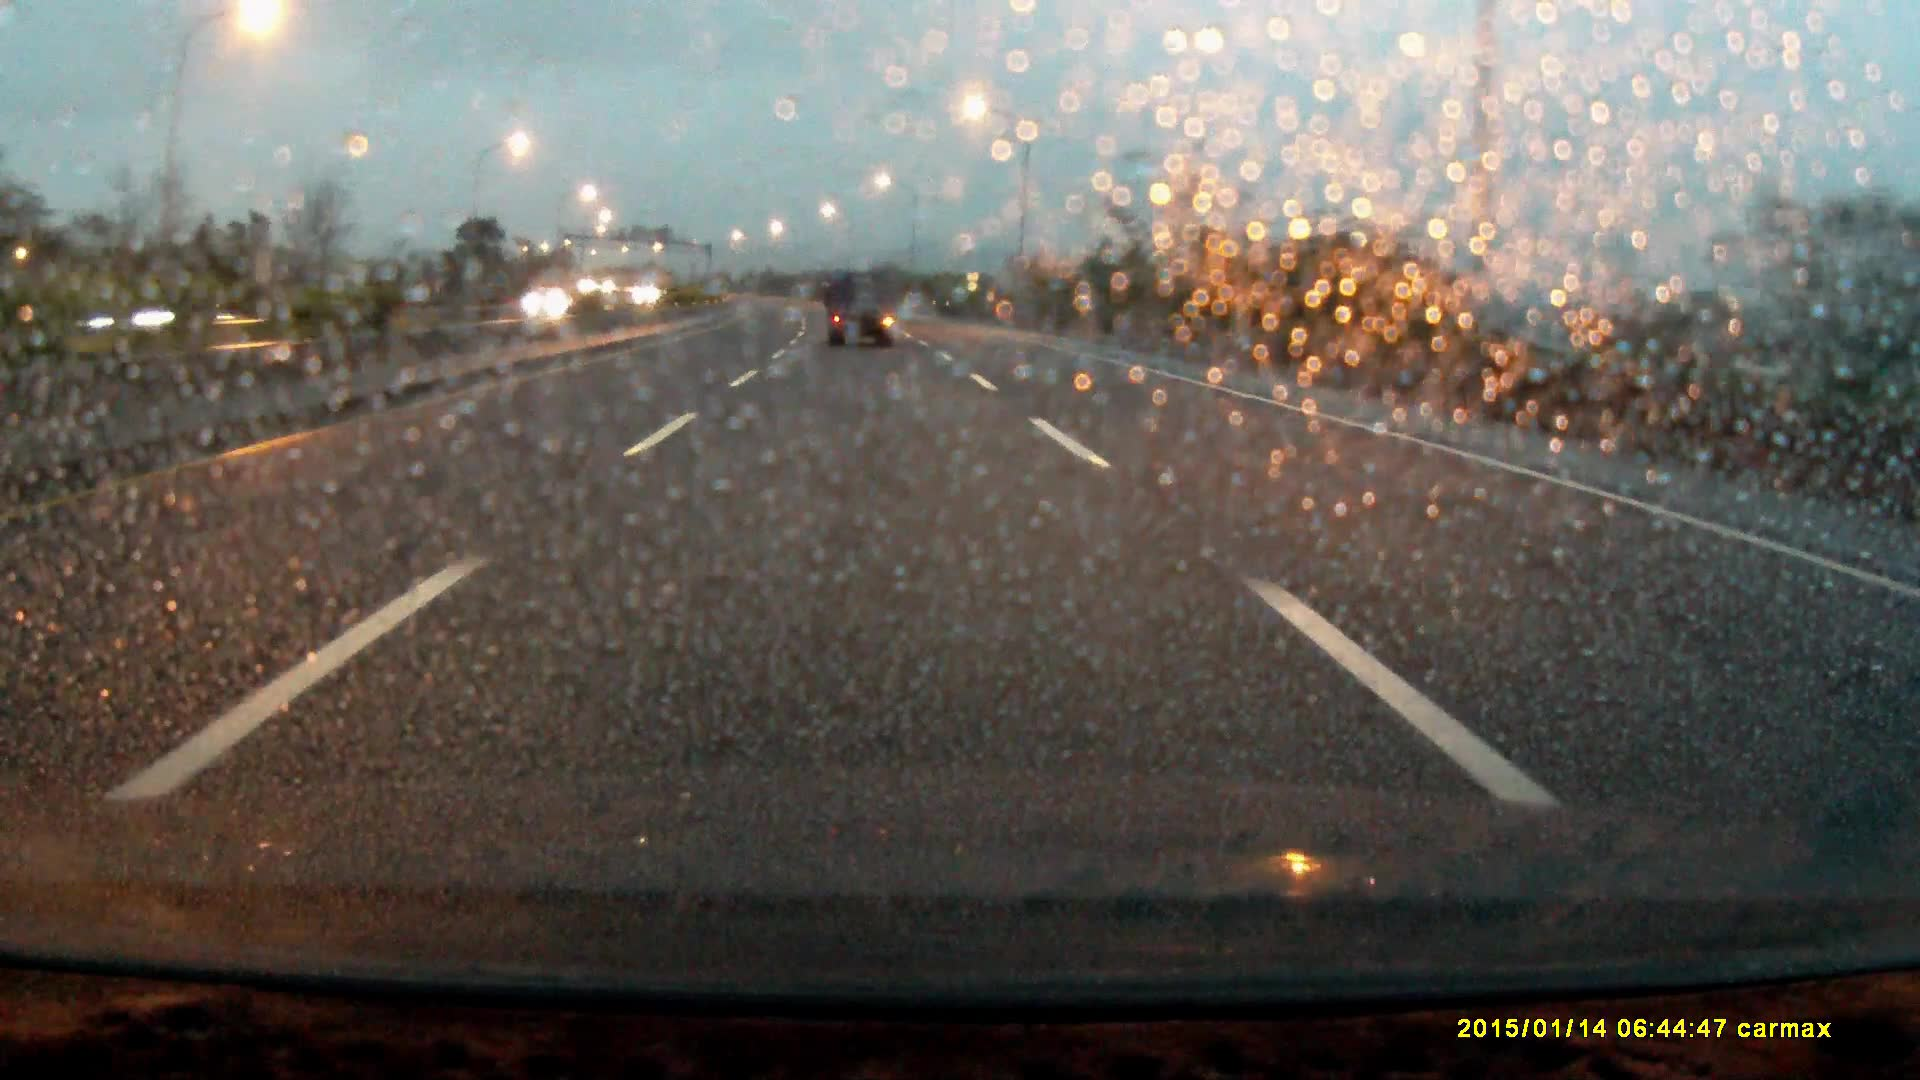vehicle: (828, 276, 895, 351), (524, 287, 588, 319)
